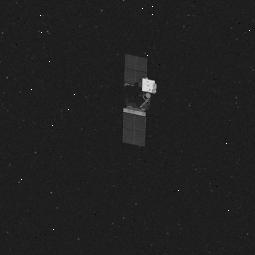soho: (115, 38, 162, 151)
